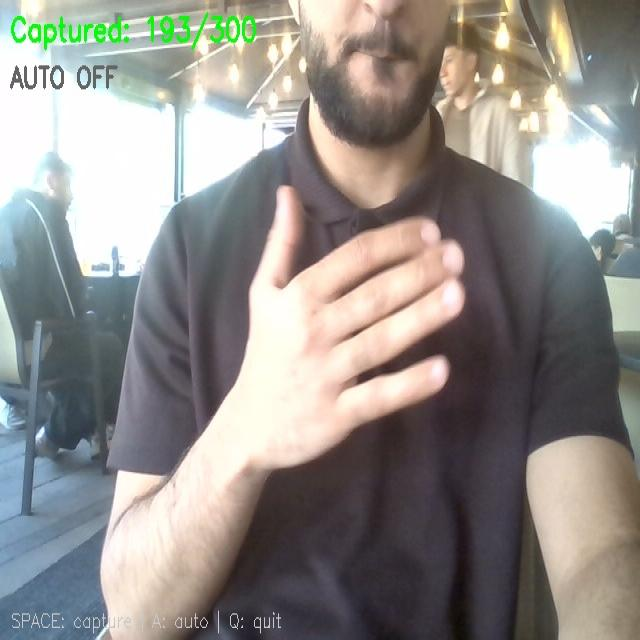Hand: (223, 187, 463, 470)
